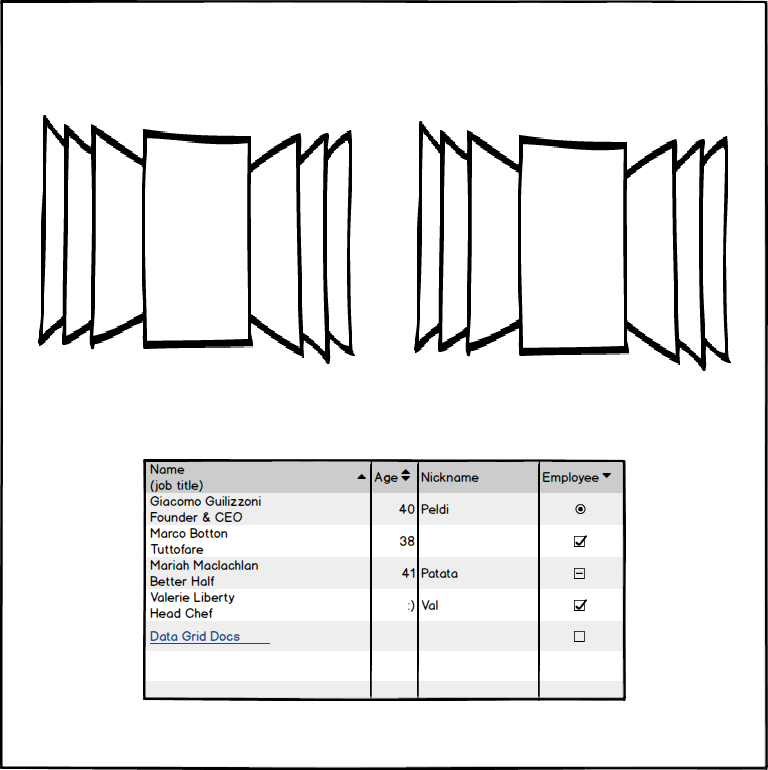slideshow: (405, 111, 743, 380), (29, 110, 360, 371)
table: (136, 455, 633, 707)
